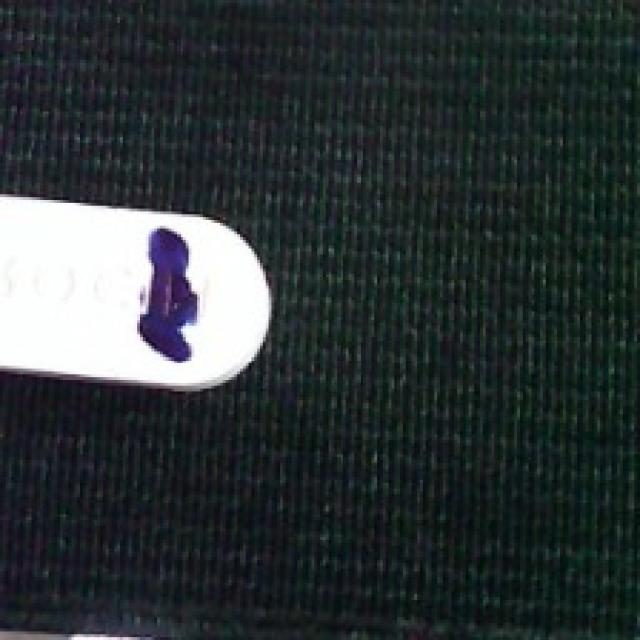defected: (0, 192, 280, 392)
